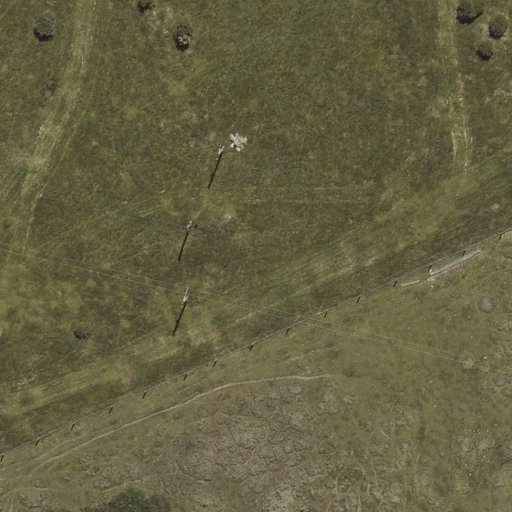DT: (175, 281, 201, 312), (178, 212, 200, 240), (210, 138, 231, 165)
